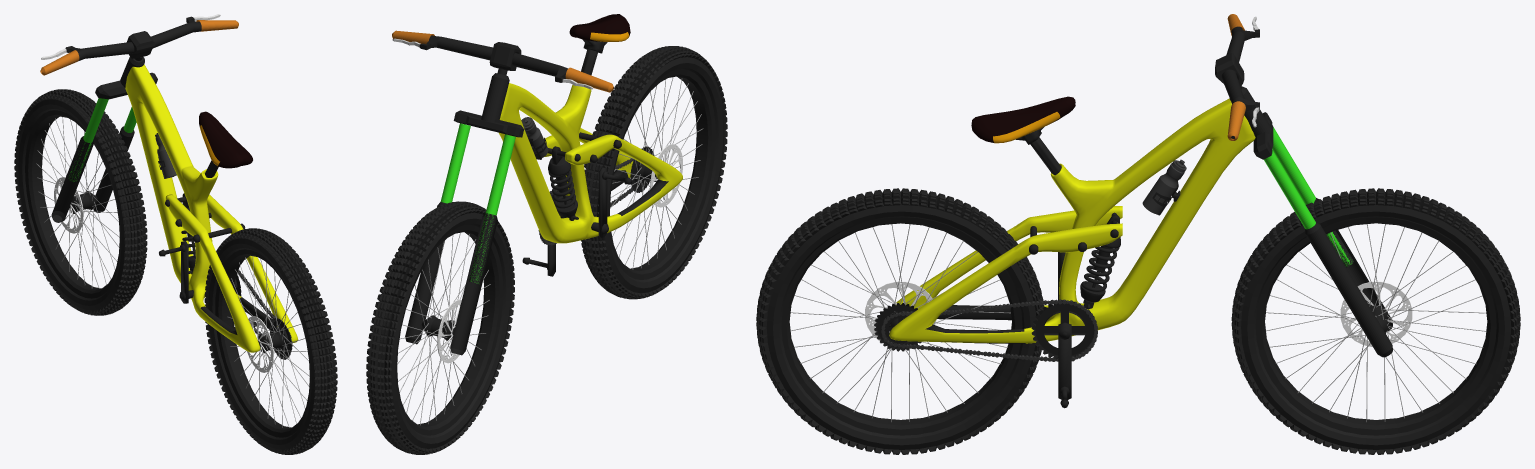
The model's file is Mountain_Bike.fbx.
The picture shows the model from 3 angles, left to right: view 1: azimuth 30°, elevation 25°; view 2: azimuth 150°, elevation 25°; view 3: azimuth 270°, elevation 25°; orthographic projection. The views are drawn at different scales.
Visible parts, largest first — view 1: ban_depan, ban_belakang, rangka, stank, gear_depan; view 2: ban_depan, ban_belakang, rangka, stank, gear_depan; view 3: ban_depan, ban_belakang, rangka, stank, gear_depan, rantai.
Part boxes in pixels (bbox=[...]): ban_depan: bbox=[14, 89, 147, 315]; ban_belakang: bbox=[204, 228, 337, 454]; rangka: bbox=[125, 64, 298, 352]; stank: bbox=[40, 14, 238, 222]; gear_depan: bbox=[159, 241, 256, 328]; ban_depan: bbox=[366, 201, 514, 454]; ban_belakang: bbox=[581, 46, 727, 299]; rangka: bbox=[499, 14, 682, 243]; stank: bbox=[392, 30, 613, 355]; gear_depan: bbox=[522, 167, 631, 276]; ban_depan: bbox=[1231, 188, 1520, 454]; ban_belakang: bbox=[756, 188, 1044, 454]; rangka: bbox=[889, 96, 1255, 343]; stank: bbox=[1215, 14, 1392, 357]; gear_depan: bbox=[1031, 252, 1096, 408]; rantai: bbox=[881, 299, 1097, 361].
Size of the model in its own units: 478 by 735 by 1285.
